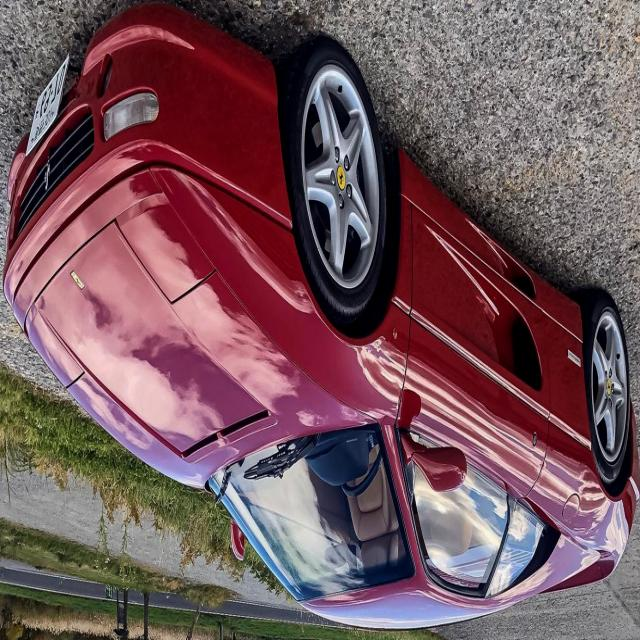maroon: (8, 12, 628, 633)
